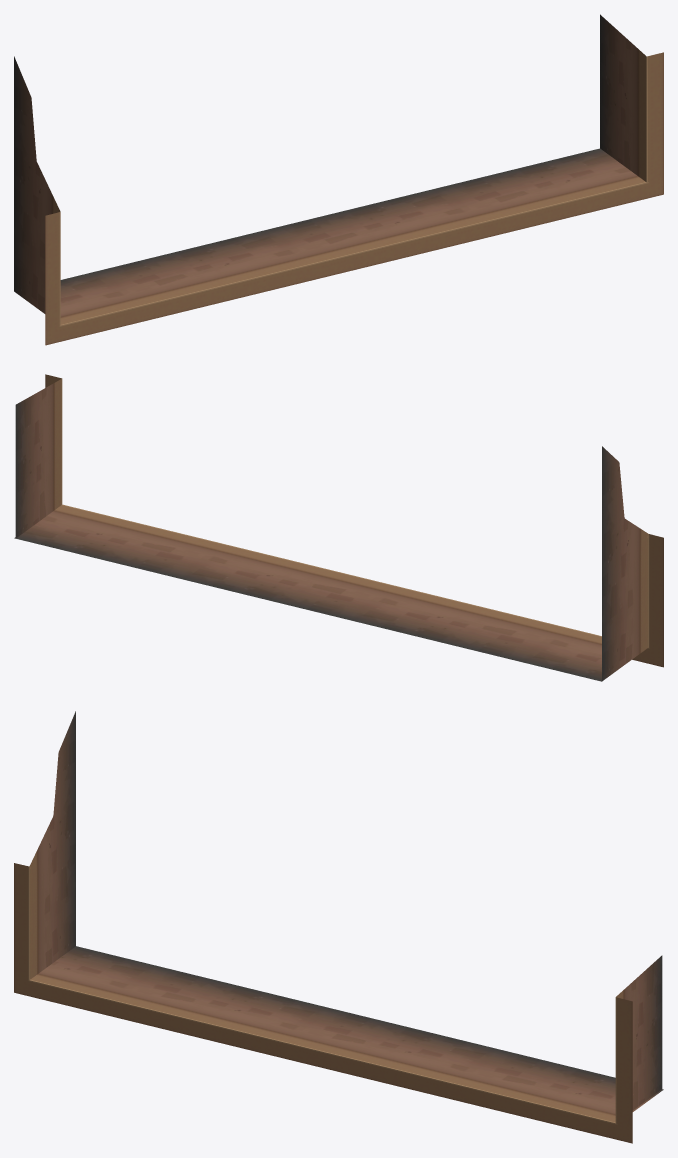
Rendered from wall_01_1_913f9c6d__ZombiesII_depot_diffuse_06_ddf3d44e_c1f257.obj.
3 views of the same model, one above another, from view 1: azimuth 30°, elevation 25°; view 2: azimuth 150°, elevation 25°; view 3: azimuth 330°, elevation 25° (orthographic).
Bounding box in the file's own units: 38.67 × 15.05 × 5.05.
Materials: 1 (1 with a texture image).
